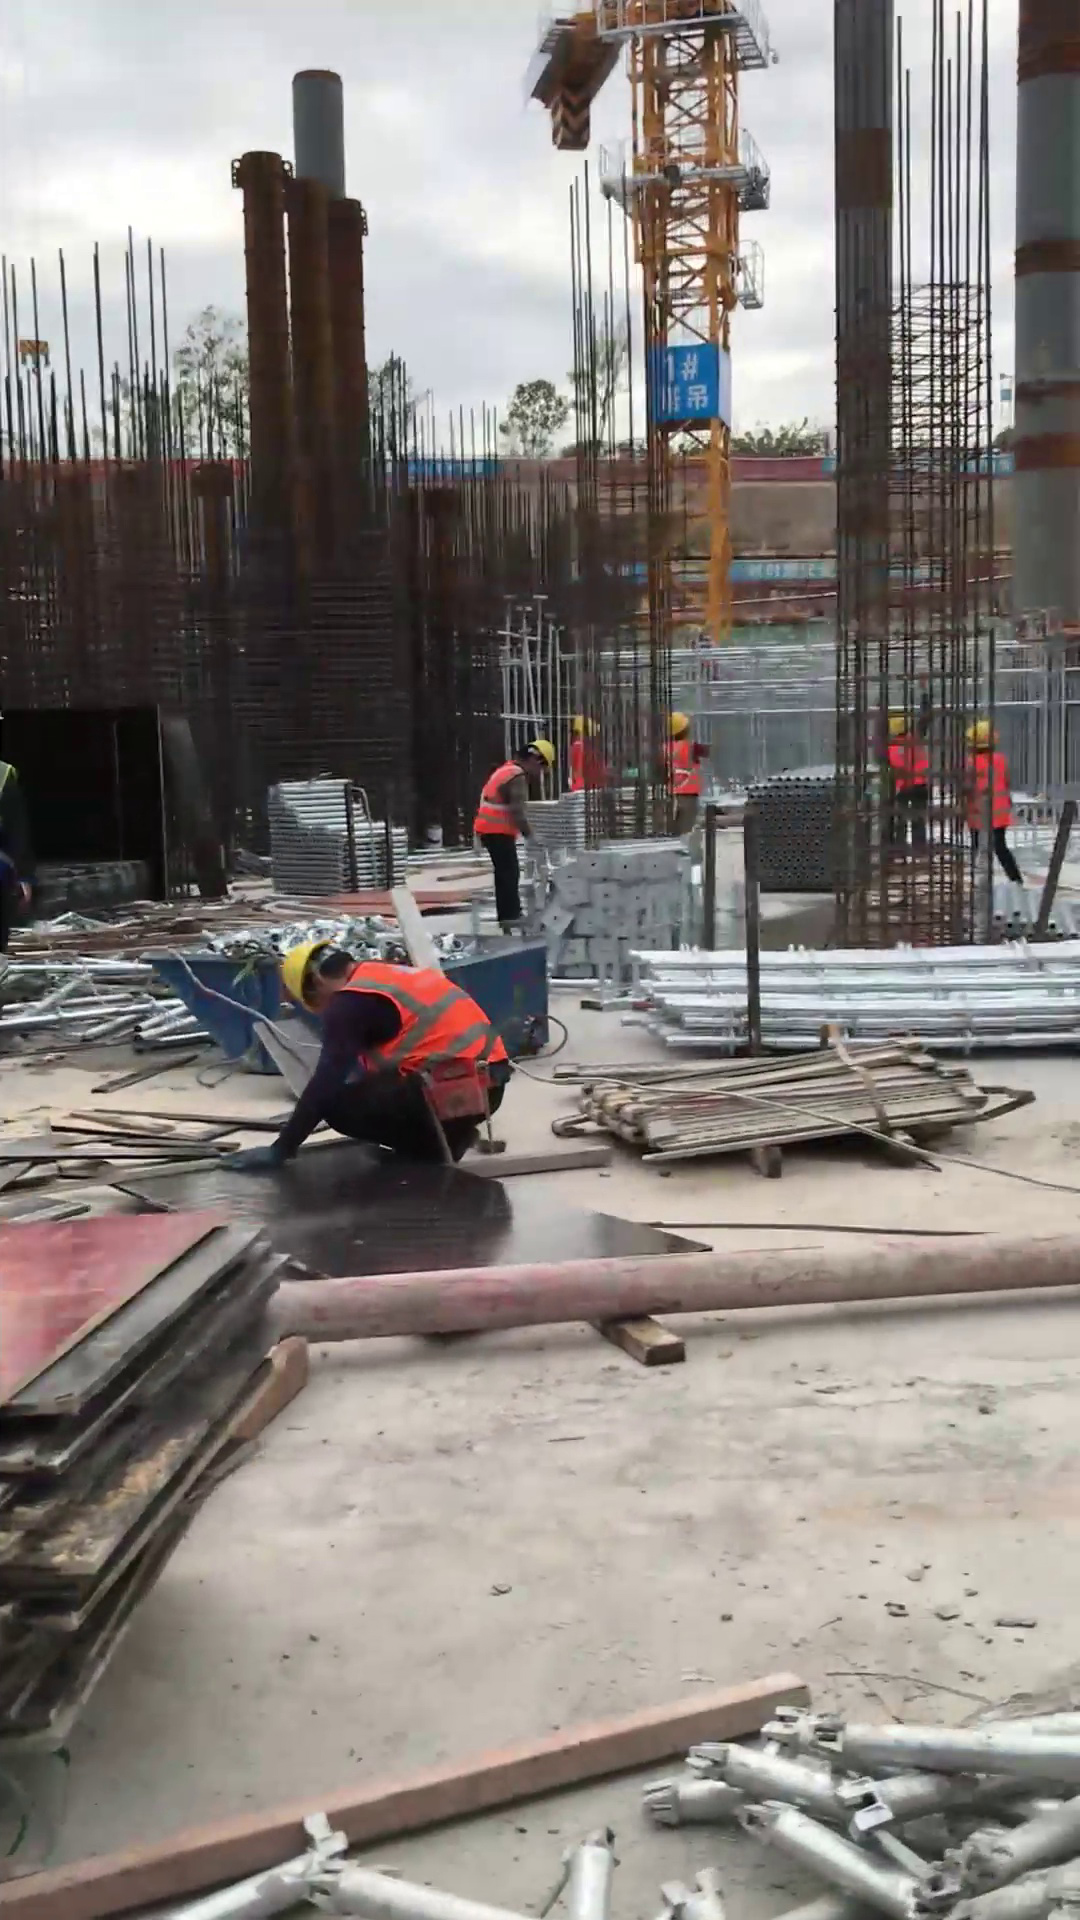helmet: (274, 925, 333, 1031), (960, 718, 999, 757), (655, 704, 693, 743), (526, 738, 561, 768)
person: (264, 932, 521, 1197), (460, 733, 562, 949), (955, 715, 1029, 896), (655, 697, 717, 856)
vest: (339, 954, 515, 1080), (467, 755, 533, 846), (961, 752, 1021, 835), (658, 740, 704, 800)
